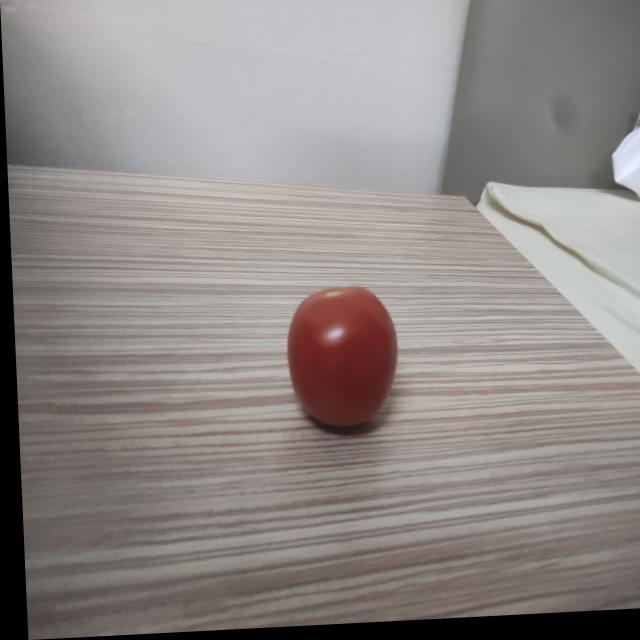kirmizi: (273, 273, 409, 448)
